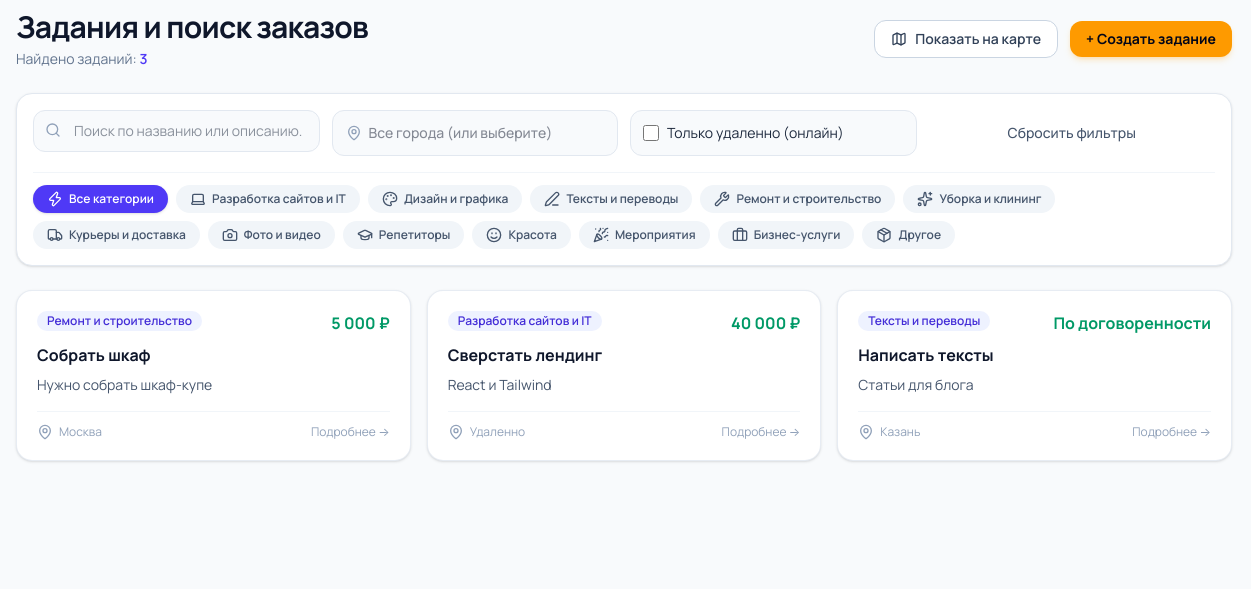
Scenario: TasksPage › пустой результат показывает подсказку, а не пустой экран
This screenshot has width=1251, height=589.
Type "нетакогозадания" into the field with placeholder "Поиск по названию или описанию..." at (176,131), box x1=33 y1=110 x2=320 y2=152
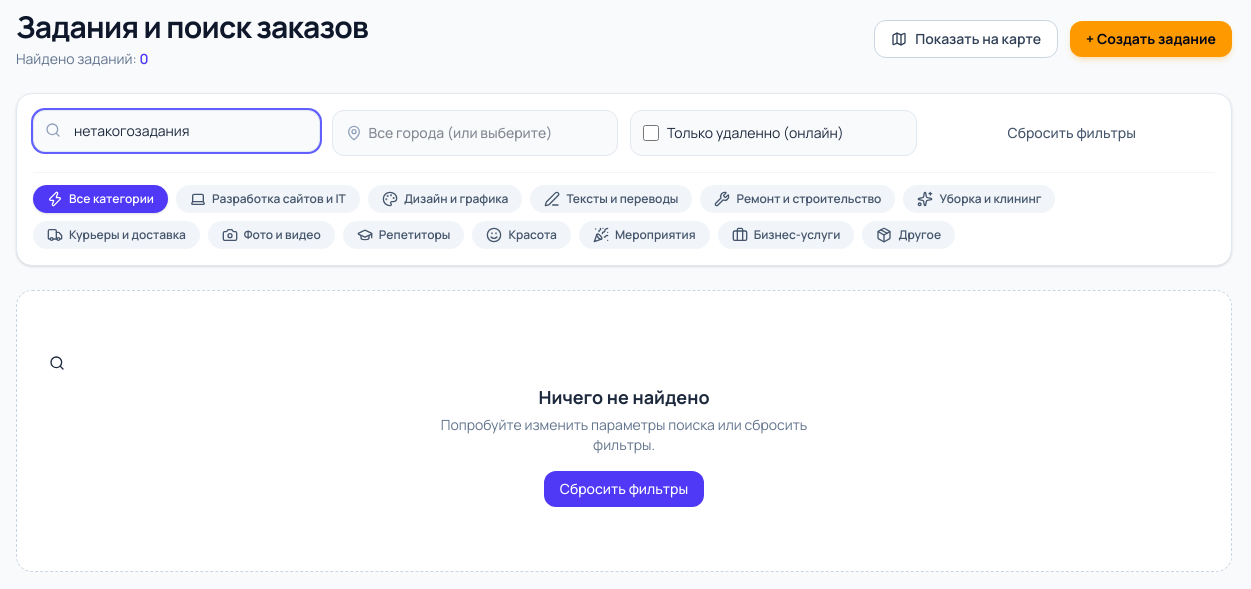
Check: the text "Ничего не найдено" is shown, box x1=538 y1=385 x2=710 y2=409
Check: the button "Сбросить фильтры" below "Ничего не найдено" is shown, box x1=544 y1=471 x2=704 y2=507
